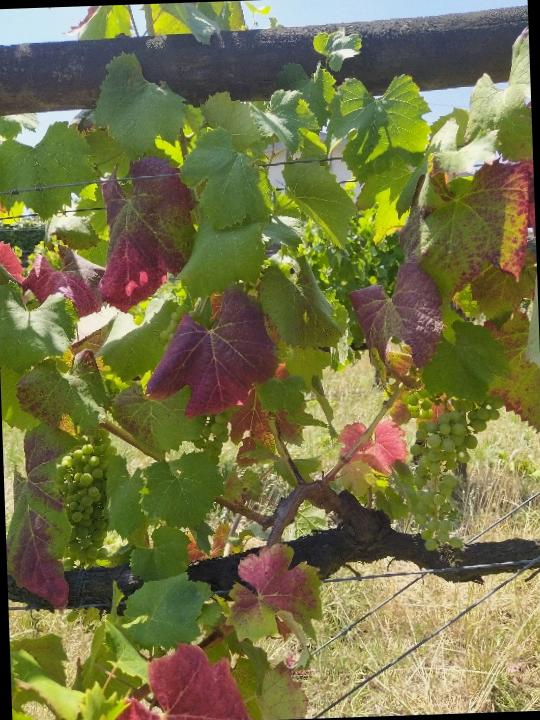grape: (395, 389, 510, 560), (51, 435, 122, 569)
